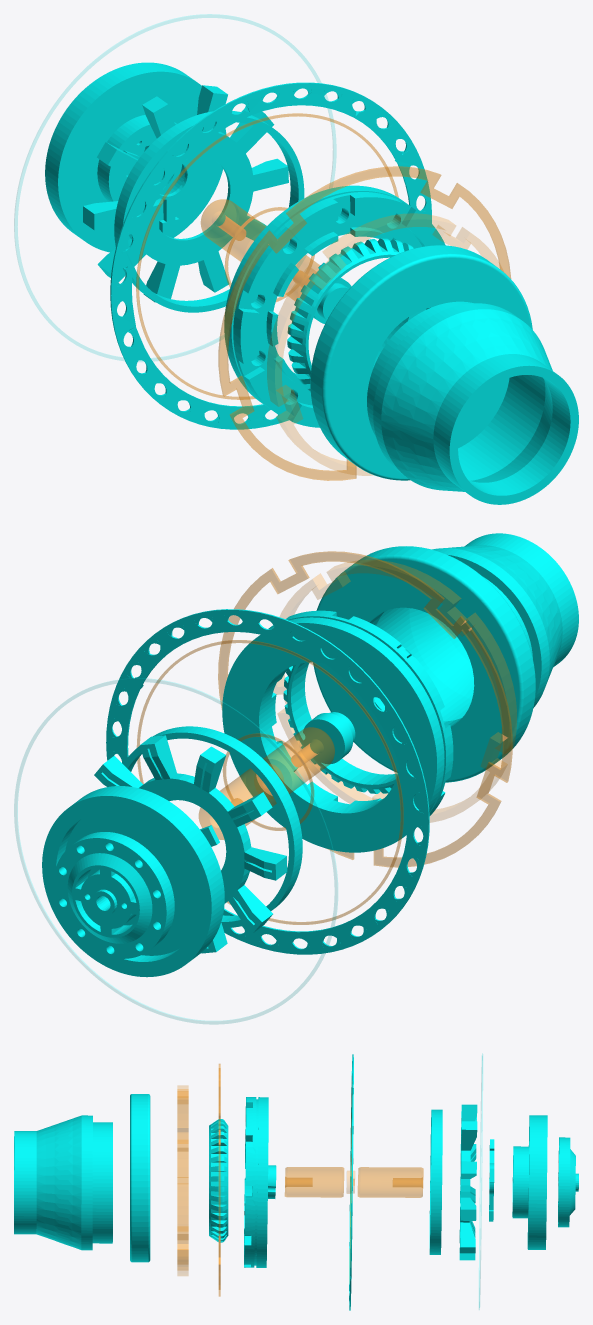
The model's file is reactor.glb.
The picture shows the model from 3 angles, top to bottom: view 1: azimuth 30°, elevation 25°; view 2: azimuth 150°, elevation 25°; view 3: azimuth 270°, elevation 25°; orthographic projection. The views are drawn at different scales.
Parts seen in each view (by area): view 1: bp4, Clear_Ring, bp1, bp2, dp4, dp2, Combining_Ring, Combining_Ring.001, jp3, Arc_Reactor_Bottom_Detail, jp3.004, Centre_LED_Holder.001 (+4 smaller); view 2: bp1, Clear_Ring, dp4, bp2, bp4, bp9, dp2, Combining_Ring, Combining_Ring.001, jp3, jp3.004, Arc_Reactor_Bottom_Detail (+5 smaller); view 3: bp4, bp1, bp2, Clear_Ring, dp2, Arc_Reactor_Bottom_Detail, Combining_Ring.001, Centre_LED_Holder.001, jp3, Centre_LED_Holder, bp9, dp4 (+3 smaller).
Boxes of the visible parts, x1,y1,x2,y2 form: bp4: (367,301,578,504); Clear_Ring: (310,245,532,480); bp1: (224,185,445,427); bp2: (45,62,226,252); dp4: (110,82,431,429); dp2: (83,85,288,302); Combining_Ring: (218,166,510,480); Combining_Ring.001: (267,213,503,475); jp3: (114,111,304,312); Arc_Reactor_Bottom_Detail: (287,238,430,391); jp3.004: (14,14,335,361); Centre_LED_Holder.001: (201,199,266,261); bp1: (222,610,453,852); Clear_Ring: (313,546,535,782); dp4: (106,609,429,954); bp2: (42,786,224,977); bp4: (376,533,578,721); bp9: (53,832,174,958); dp2: (94,735,287,953); Combining_Ring: (218,551,512,867); Combining_Ring.001: (273,561,516,822); jp3: (123,726,302,927); jp3.004: (14,678,337,1023); Arc_Reactor_Bottom_Detail: (283,645,414,793); bp4: (14,1115,112,1250); bp1: (244,1097,268,1267); bp2: (512,1115,547,1249); Clear_Ring: (130,1094,150,1262); dp2: (459,1104,477,1260); Arc_Reactor_Bottom_Detail: (209,1119,228,1242); Combining_Ring.001: (177,1085,188,1275); Centre_LED_Holder.001: (358,1167,423,1197); jp3: (429,1109,442,1254); Centre_LED_Holder: (285,1167,343,1197); bp9: (558,1137,578,1227); dp4: (349,1054,353,1310).
Size of the model in its own units: 115 by 114 by 252.
